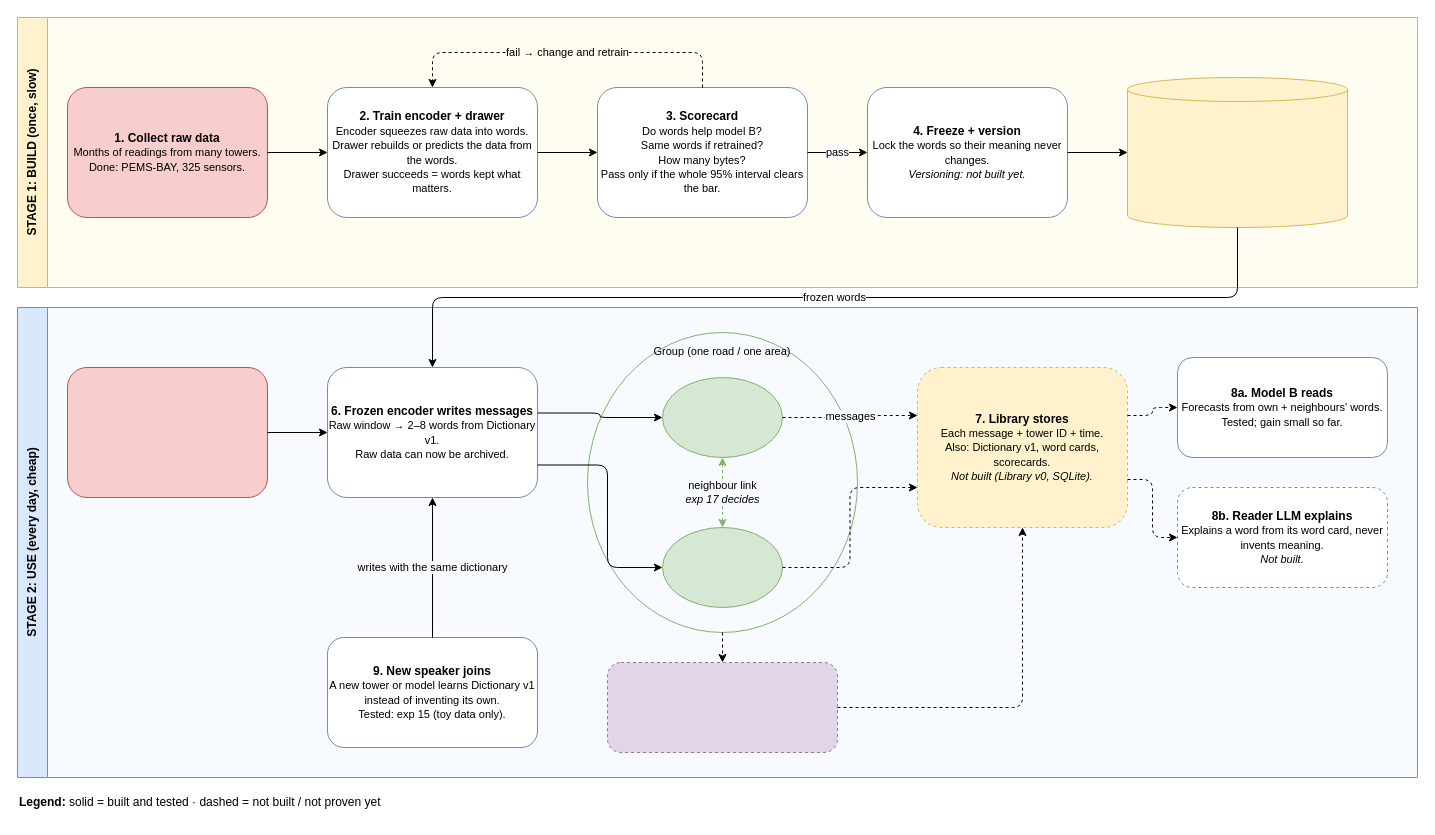
Some shapes in this 1435 by 835 pixel diagram are drawn without their labels. Each missing label, with the centre of its shape:
5. New raw data T1 and T2 send their latest hour of readings.: the point at 167,432
Dictionary v1 256 words + drawer. One per kind of data, shared by all towers.: the point at 1237,152
Group words (level 2) Words of words, e.g. <g3>. Paused: exp 6 failed.: the point at 722,707
T1 <w12> <w87>: the point at 722,417
T2 <w12> <w140>: the point at 722,567
